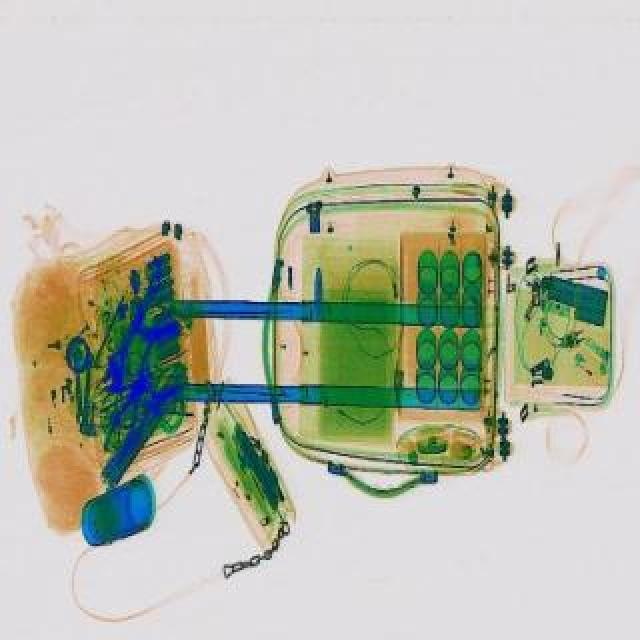scissors: (92, 268, 170, 396), (64, 342, 88, 424)
wrench: (98, 362, 156, 460)
